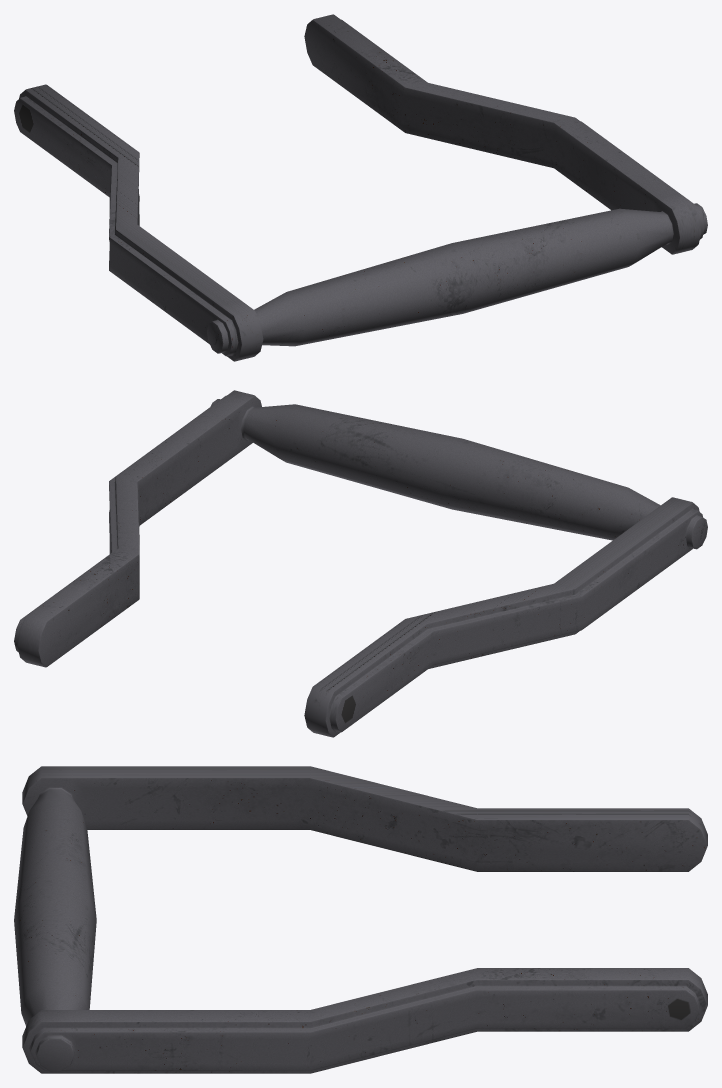
The model's file is lever_handle.gltf.
3 views of the same model, one above another, from view 1: azimuth 30°, elevation 25°; view 2: azimuth 150°, elevation 25°; view 3: azimuth 270°, elevation 25° (orthographic). The views are drawn at different scales.
Visible parts, largest first — view 1: lever_handle; view 2: lever_handle; view 3: lever_handle.
Part boxes in pixels (bbox=[...]): lever_handle: bbox=[14, 14, 707, 361]; lever_handle: bbox=[14, 390, 707, 737]; lever_handle: bbox=[14, 766, 707, 1073].
Size of the model in its own units: 0.2202 by 0.0271 by 0.239.
1 material, 1 textured.
